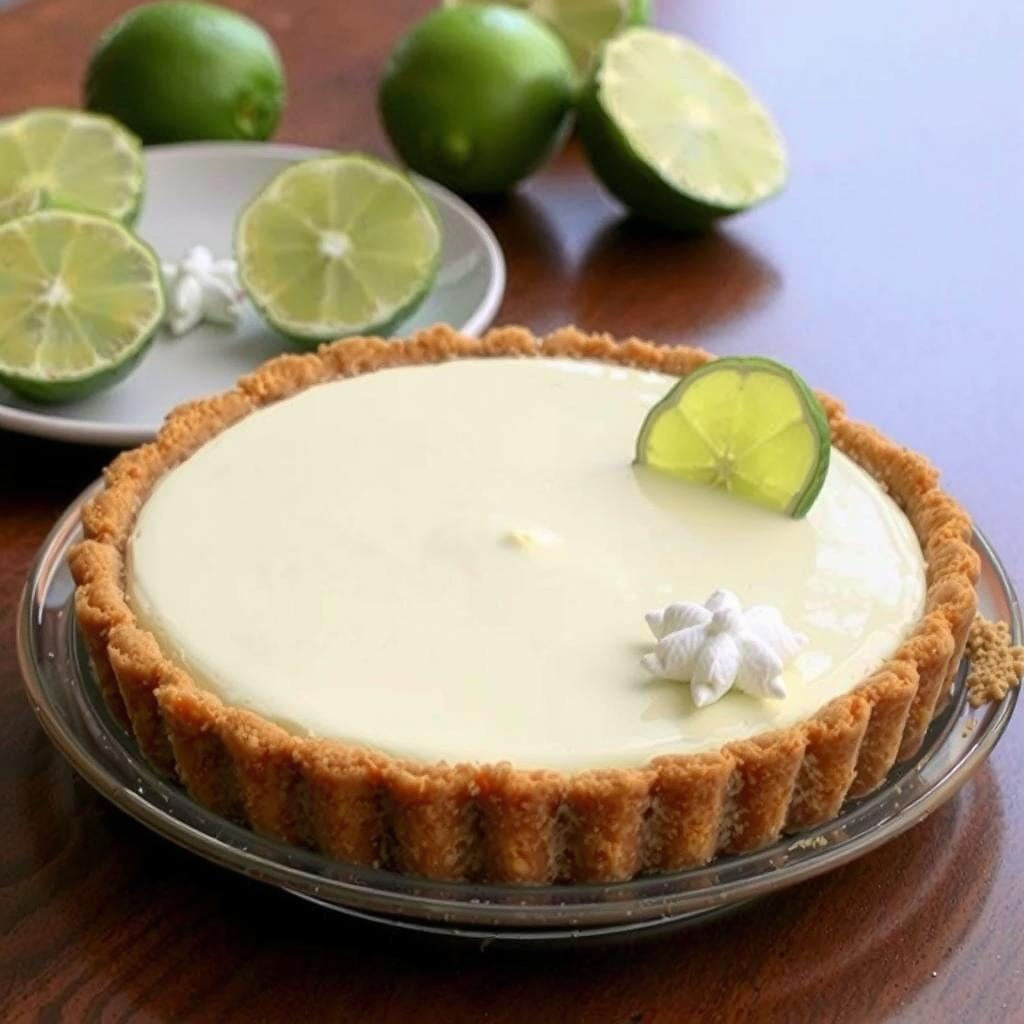pie: (56, 316, 990, 887)
